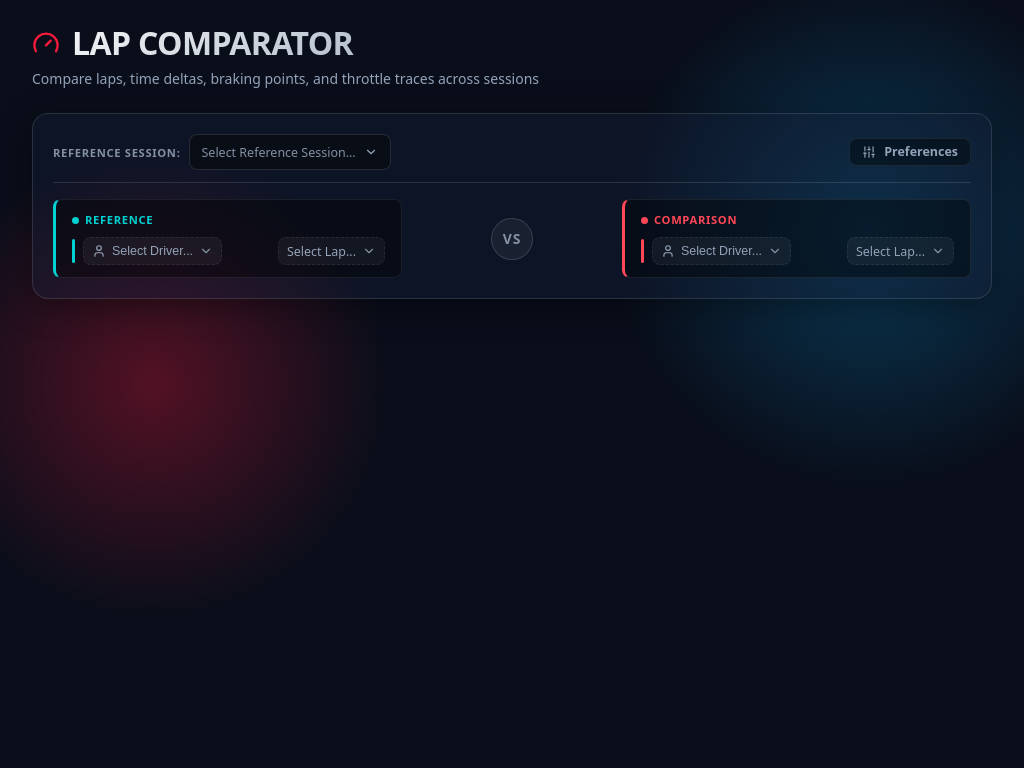
LapComparator Component › fetches sessions on mount, opens custom dropdown and displays session items with badges
The width and height of the screenshot is (1024, 768).
Expected: the heading "Lap Comparator" is shown, [32,24,539,62]
# Open Session A dropdown
Click the button with test id "session-selector-trigger": (290, 152) [188,134,391,170]
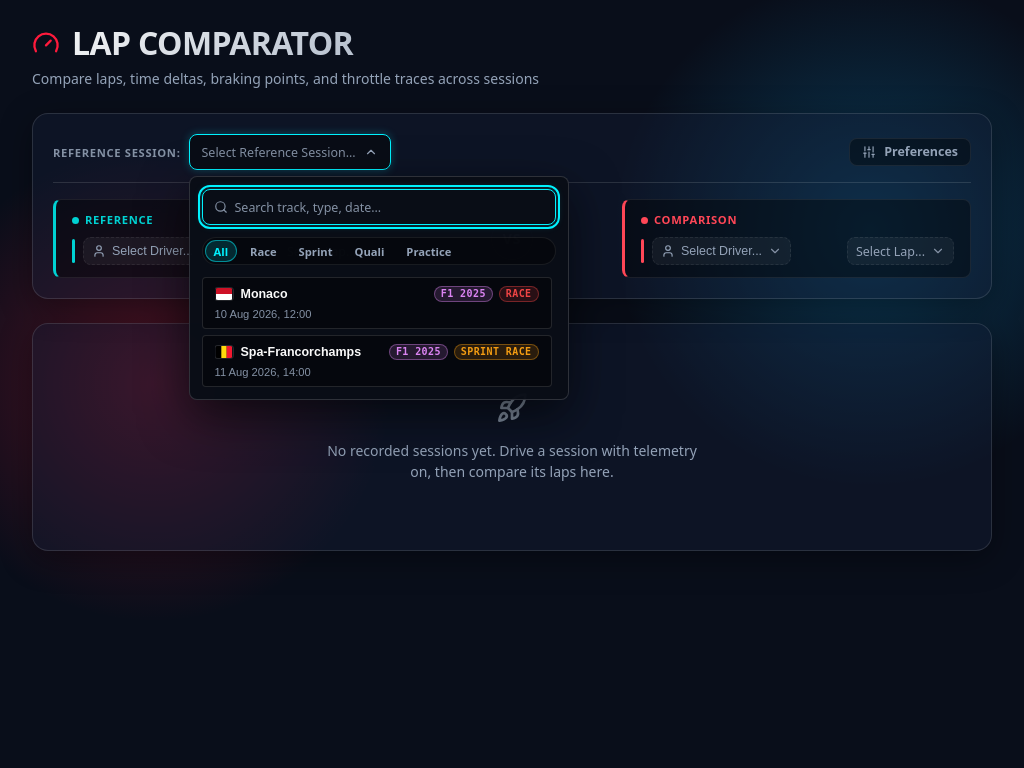
Expected: the option "Monaco F1 2025 Race 10 Aug 2026, 12:00" is shown, [202,277,552,329]
Expected: the option "Spa-Francorchamps F1 2025 Sprint Race 11 Aug 2026, 14:00" is shown, [202,335,552,387]
